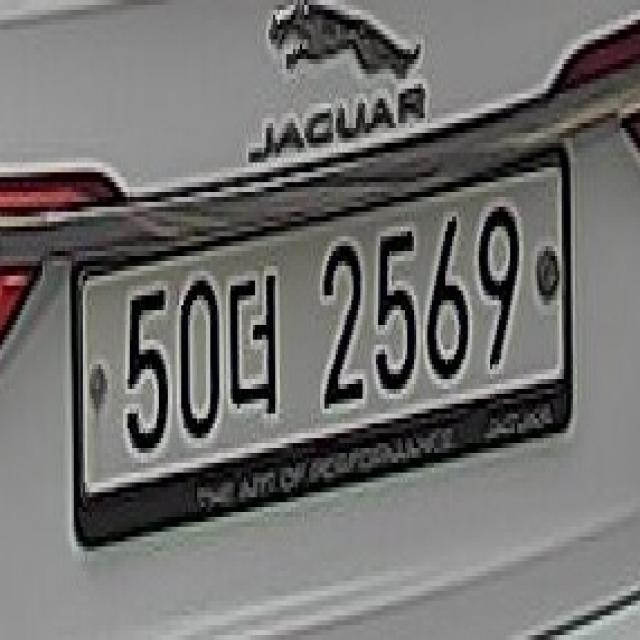0: (176, 270, 222, 440)
2: (316, 234, 368, 412)
5: (120, 284, 170, 460), (374, 215, 420, 400)
6: (424, 204, 474, 388)
9: (476, 194, 522, 377)
deo: (226, 254, 286, 436)
license_plate: (72, 137, 574, 543)
